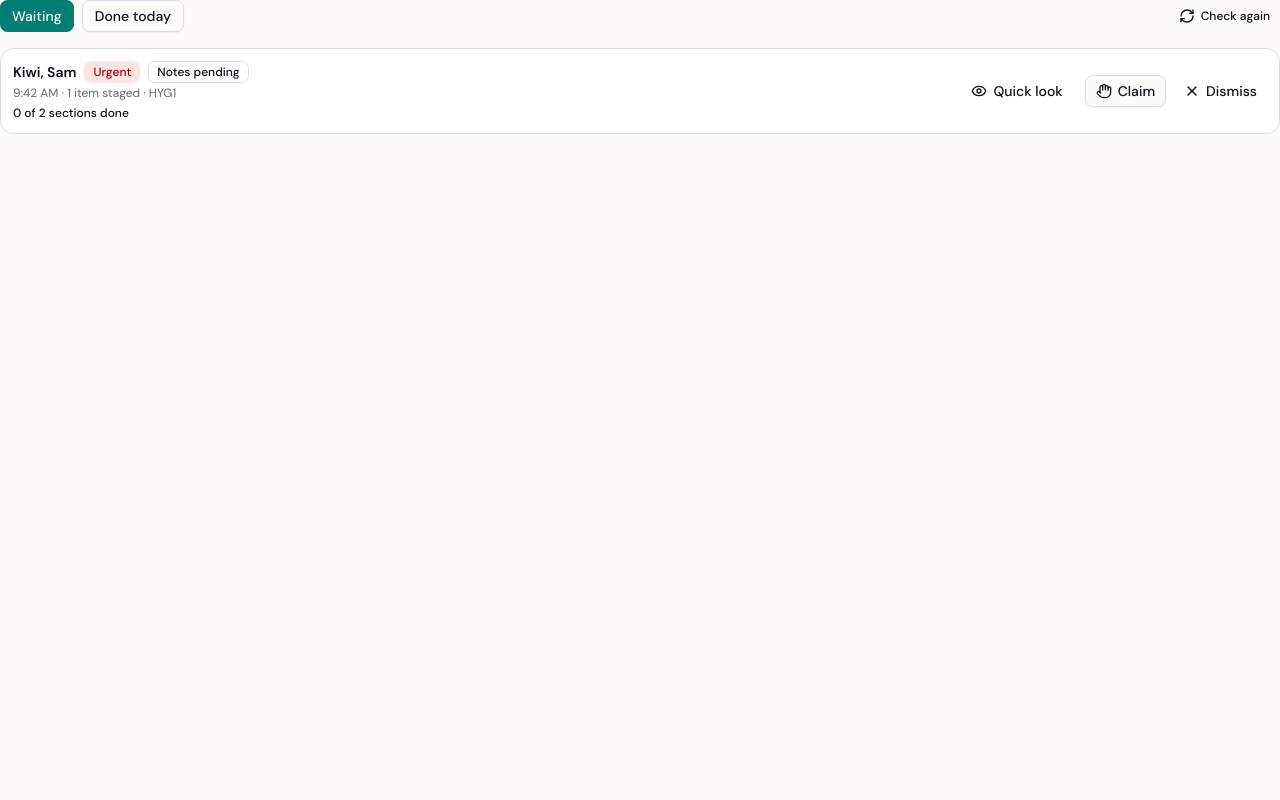
Scenario: the Checkout inbox › not_scheduled sends exactly that outcome, and no appointment note
Click the button with test id "checkout-row-quicklook" at {"x": 1017, "y": 91}, box [962,75,1073,107]
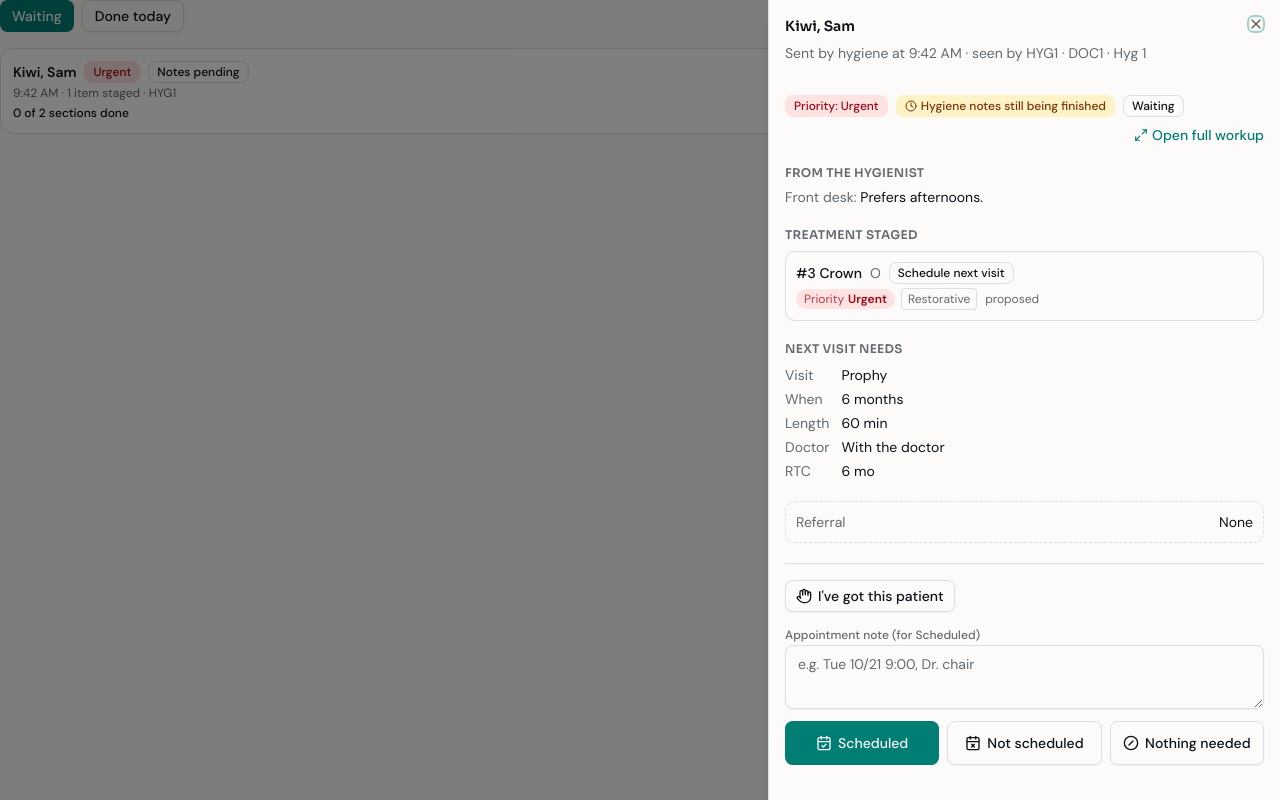
Type "ignored" into the text box with test id "checkout-appointment-note" at {"x": 1024, "y": 677}, box [785,645,1264,709]
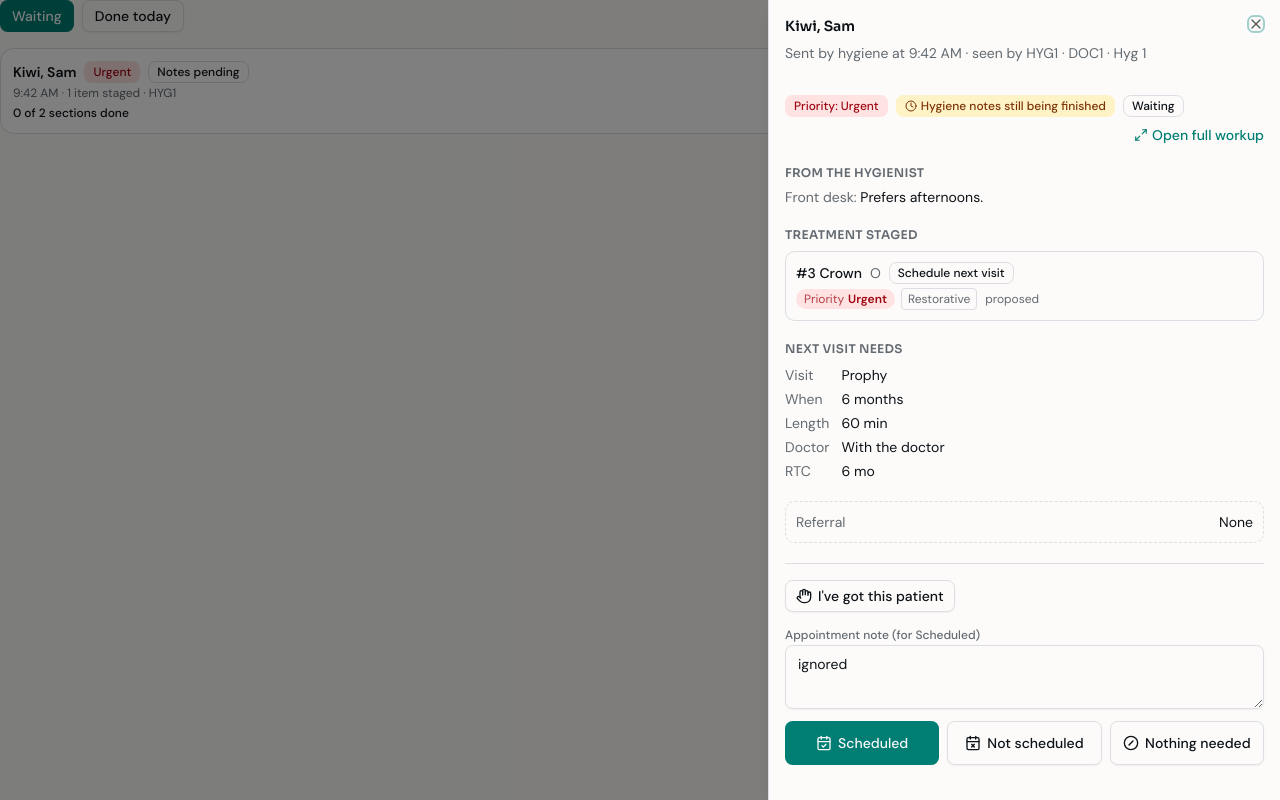
Click the button with test id "checkout-outcome-not_scheduled" at {"x": 1024, "y": 743}, box [947,721,1102,765]
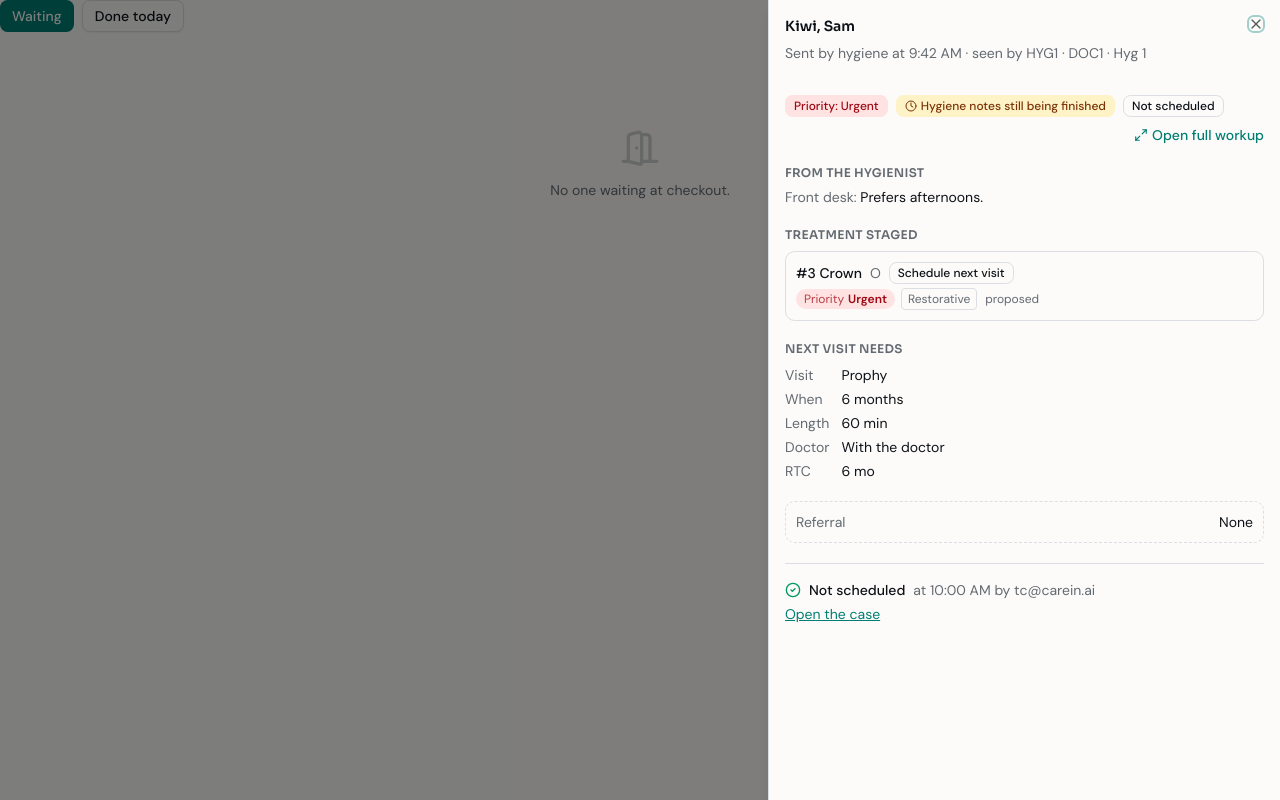
Result: the element with test id "checkout-answered" shows "Not scheduled" at [809,581,905,599]
Result: the element with test id "checkout-answered" is shown at [785,563,1264,624]
